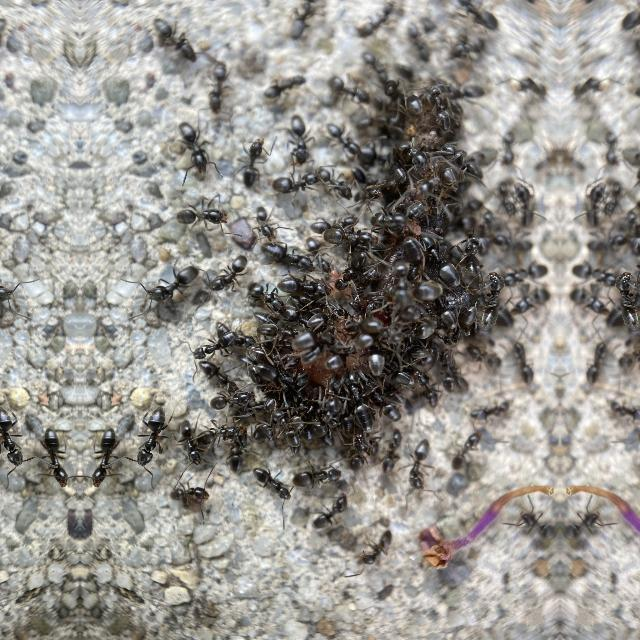Tapinoma: (140, 254, 200, 312), (150, 5, 200, 66), (130, 398, 170, 472), (84, 418, 120, 490), (40, 418, 76, 490), (174, 116, 214, 180), (419, 231, 461, 287), (0, 396, 30, 472), (173, 194, 227, 236), (512, 499, 558, 546), (562, 499, 608, 546), (262, 64, 310, 106), (308, 490, 350, 536), (253, 462, 295, 508), (327, 66, 373, 108), (210, 250, 250, 298), (236, 129, 268, 189), (202, 55, 232, 119), (448, 0, 504, 34), (402, 432, 432, 492), (501, 256, 551, 292), (357, 46, 393, 96), (266, 236, 316, 272), (569, 256, 619, 292), (435, 70, 487, 104), (356, 0, 398, 42), (247, 272, 289, 314), (284, 0, 324, 44), (360, 526, 396, 574), (272, 168, 322, 202), (284, 112, 314, 168), (381, 75, 423, 115), (324, 116, 362, 160), (448, 426, 484, 472), (214, 318, 260, 354), (318, 160, 356, 203), (296, 461, 344, 495), (482, 267, 508, 329), (612, 267, 638, 329), (402, 14, 434, 64), (176, 415, 204, 471), (510, 334, 540, 386), (426, 80, 456, 132), (580, 334, 610, 386), (311, 206, 359, 238), (333, 250, 369, 292), (170, 475, 214, 509), (197, 416, 240, 450), (512, 281, 552, 317), (279, 269, 327, 299), (568, 281, 608, 317), (368, 382, 402, 424), (378, 427, 406, 478), (470, 396, 514, 428), (196, 354, 234, 390), (464, 340, 504, 374), (448, 32, 488, 66), (345, 366, 369, 422), (304, 232, 334, 276), (209, 384, 253, 414), (492, 225, 536, 255), (584, 225, 628, 255), (188, 331, 228, 363), (309, 301, 345, 335), (514, 180, 538, 230), (582, 180, 606, 230), (414, 368, 442, 410), (0, 254, 20, 312), (606, 394, 640, 428), (496, 122, 520, 170), (600, 122, 624, 170), (226, 430, 252, 474), (311, 406, 337, 450), (372, 204, 411, 232), (250, 202, 276, 242), (324, 333, 358, 363), (437, 344, 457, 392), (398, 138, 430, 168), (395, 338, 429, 364), (614, 0, 640, 34), (616, 340, 640, 374), (396, 317, 430, 339), (630, 30, 640, 66)
